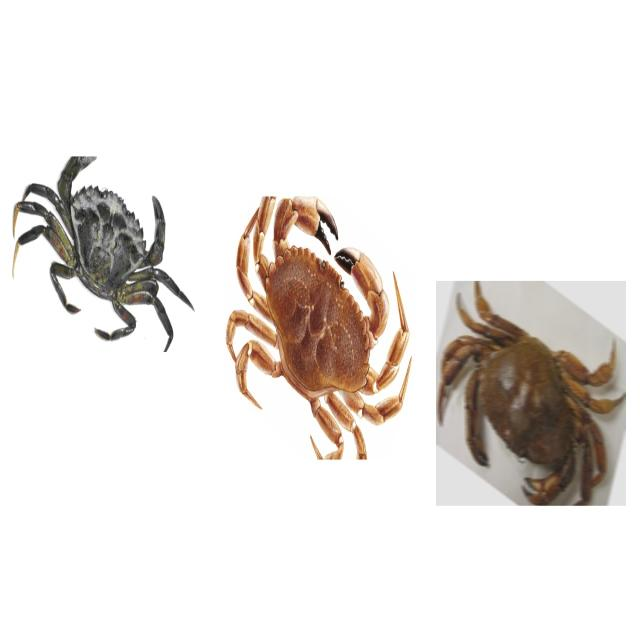egc: (14, 154, 200, 360)
jonah_crab: (222, 196, 414, 462)
rock_crab: (436, 286, 626, 507)
